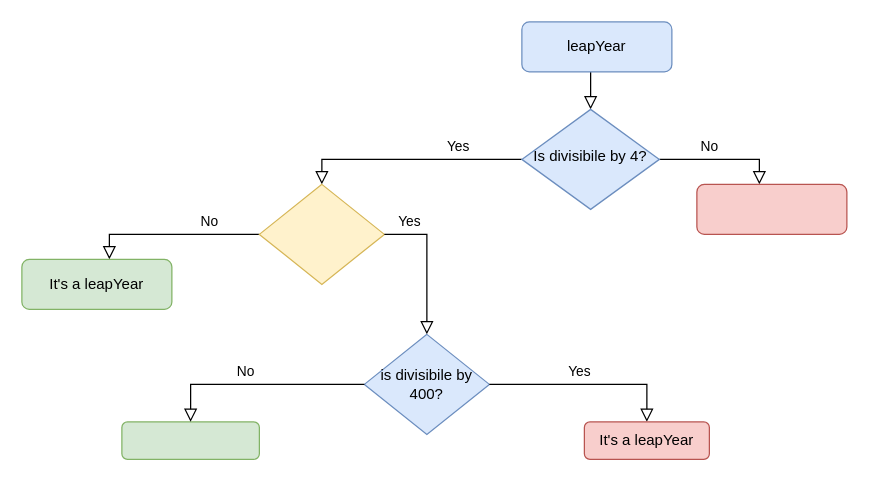
Image size: 869x481. Some labels were removed from this diagram. Here are the shapes that lost their labels. From the top down, the box of each, then its label:
(696, 183, 847, 234): it's not a leapPyear
(258, 183, 384, 284): is divisibile by 100?
(121, 421, 259, 459): It's not a leapYear
